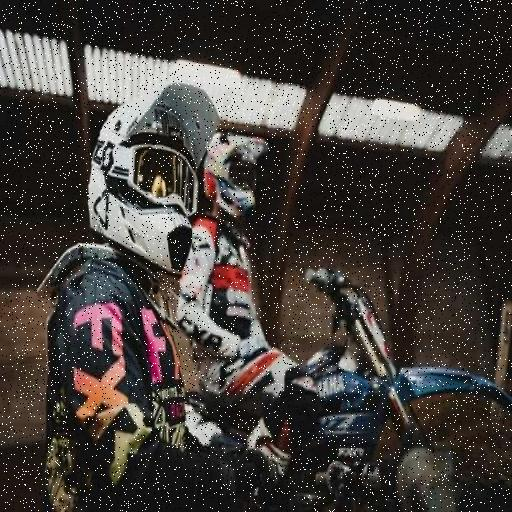Helmet: (88, 84, 219, 271), (204, 133, 267, 218)
